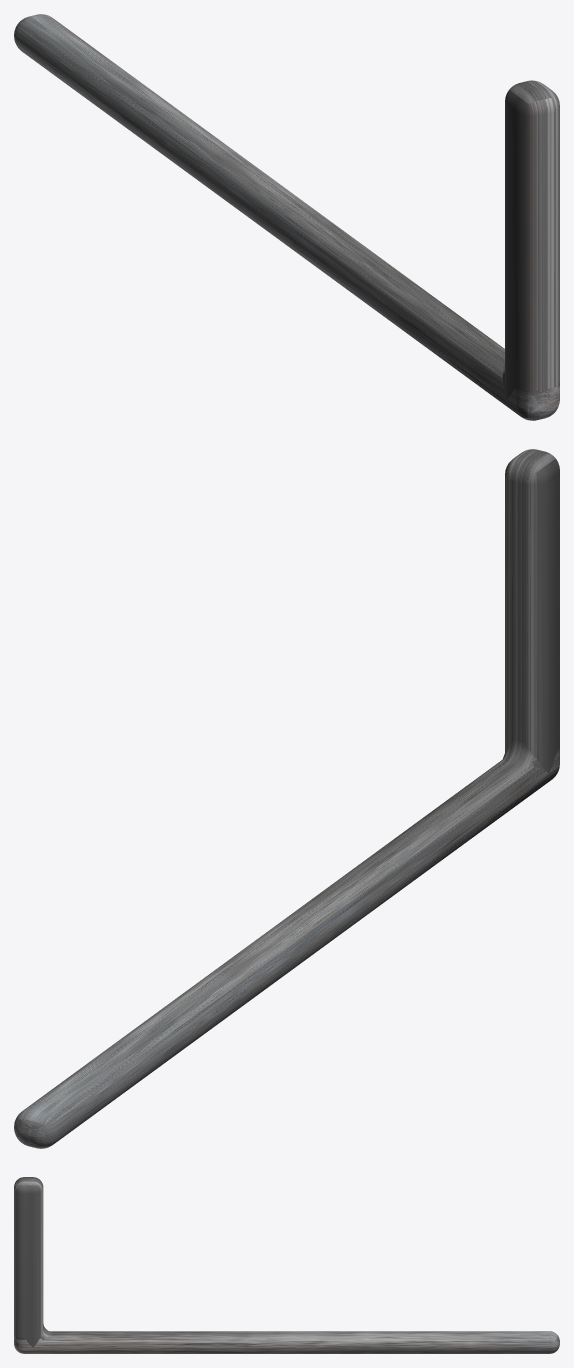
File: CabinetIron.fbx
The picture shows the model from 3 angles, top to bottom: view 1: azimuth 30°, elevation 25°; view 2: azimuth 150°, elevation 25°; view 3: azimuth 270°, elevation 25°; orthographic projection. The views are drawn at different scales.
Visible parts, largest first — view 1: Cube.005; view 2: Cube.005; view 3: Cube.005.
Boxes of the visible parts, bbox=[...] form: Cube.005: bbox=[14, 14, 559, 420]; Cube.005: bbox=[14, 449, 559, 1148]; Cube.005: bbox=[14, 1177, 559, 1353].
Bounding box in the file's own units: 0.2687 × 2.03 × 5.79.
1 material, 1 textured.
